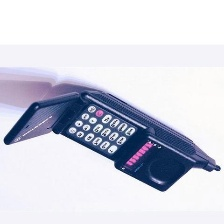phone: (0, 86, 224, 196)
